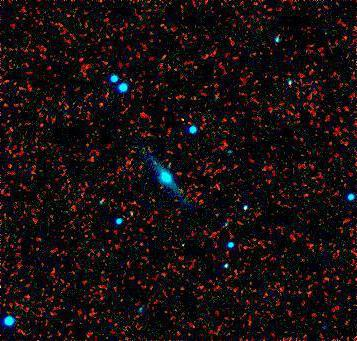star: (153, 145, 183, 175)
